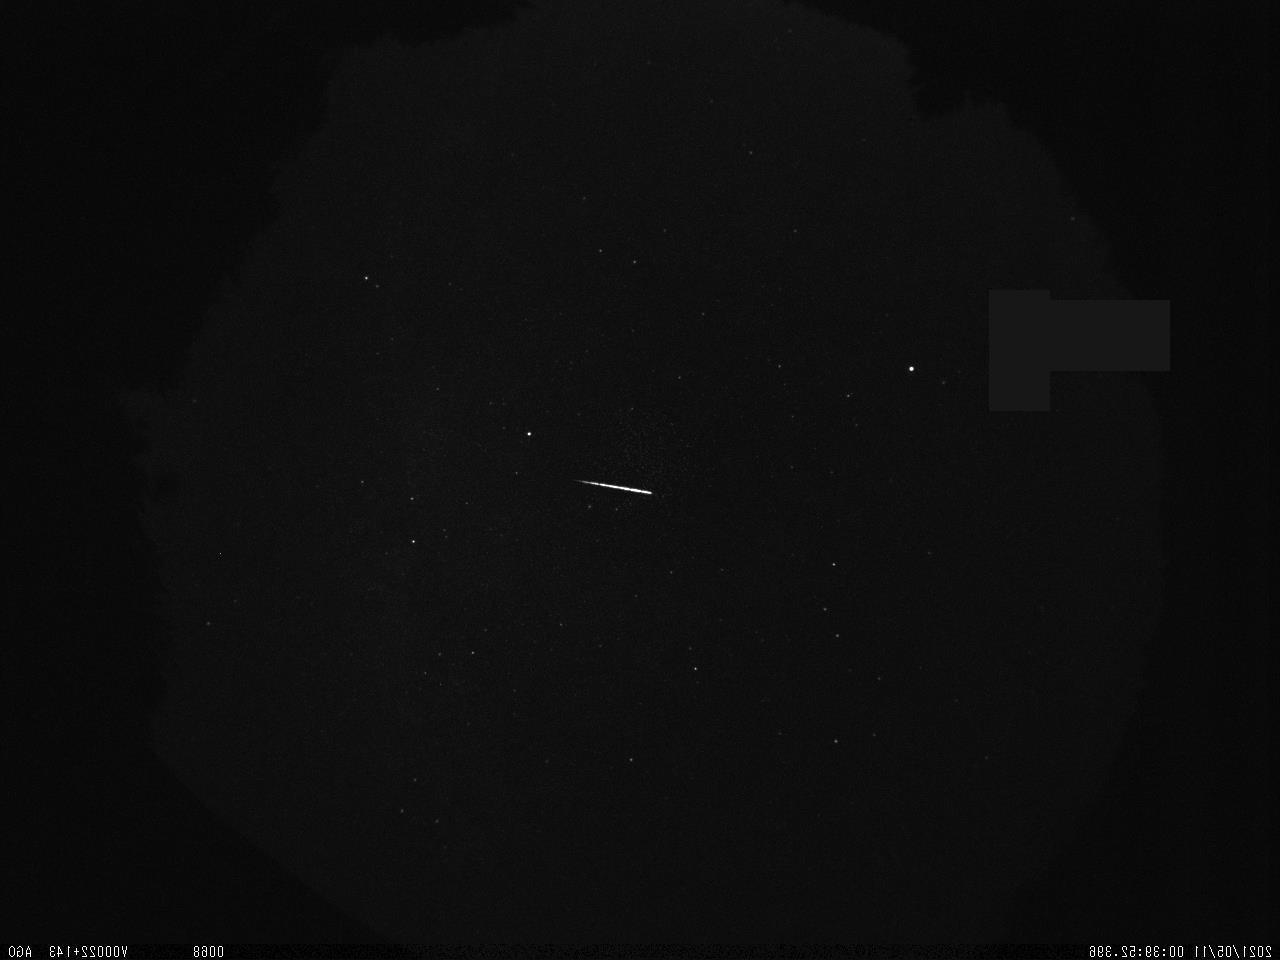meteor: (562, 472, 661, 510)
